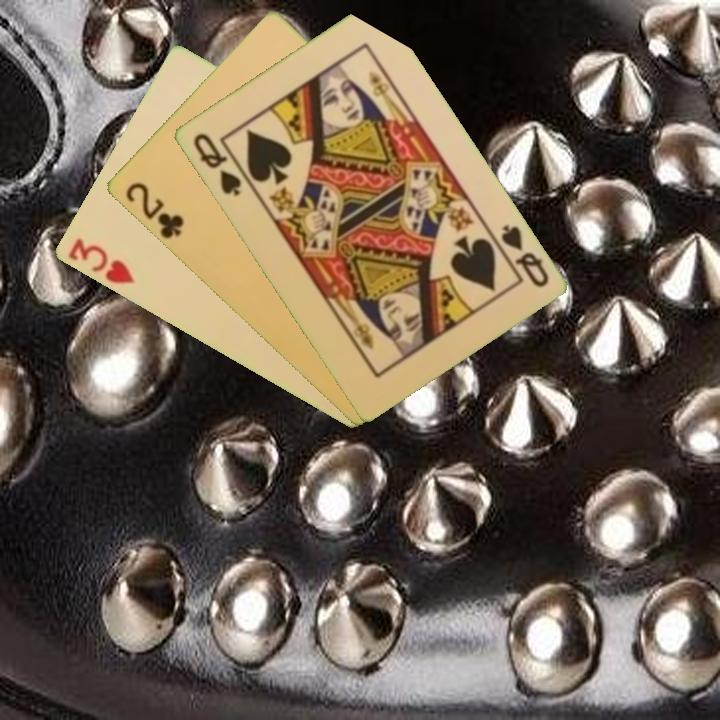2c: (121, 178, 187, 242)
3h: (63, 235, 137, 287)
Qs: (487, 220, 551, 291), (189, 129, 244, 199)
